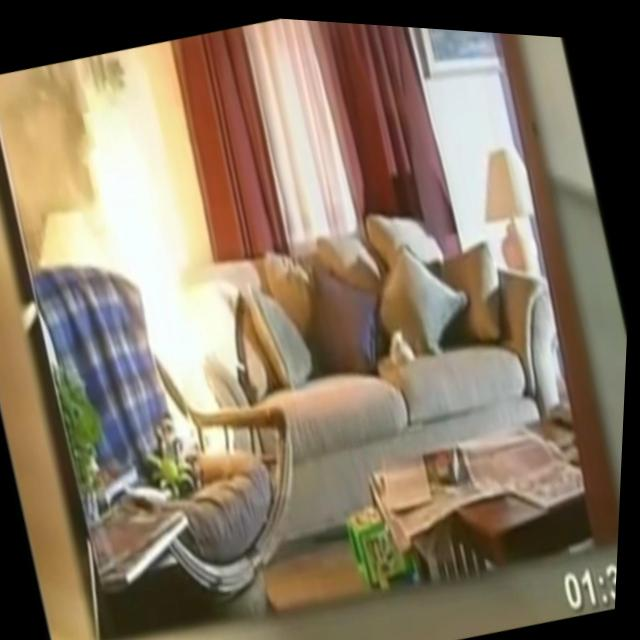fire: (51, 40, 264, 473)
